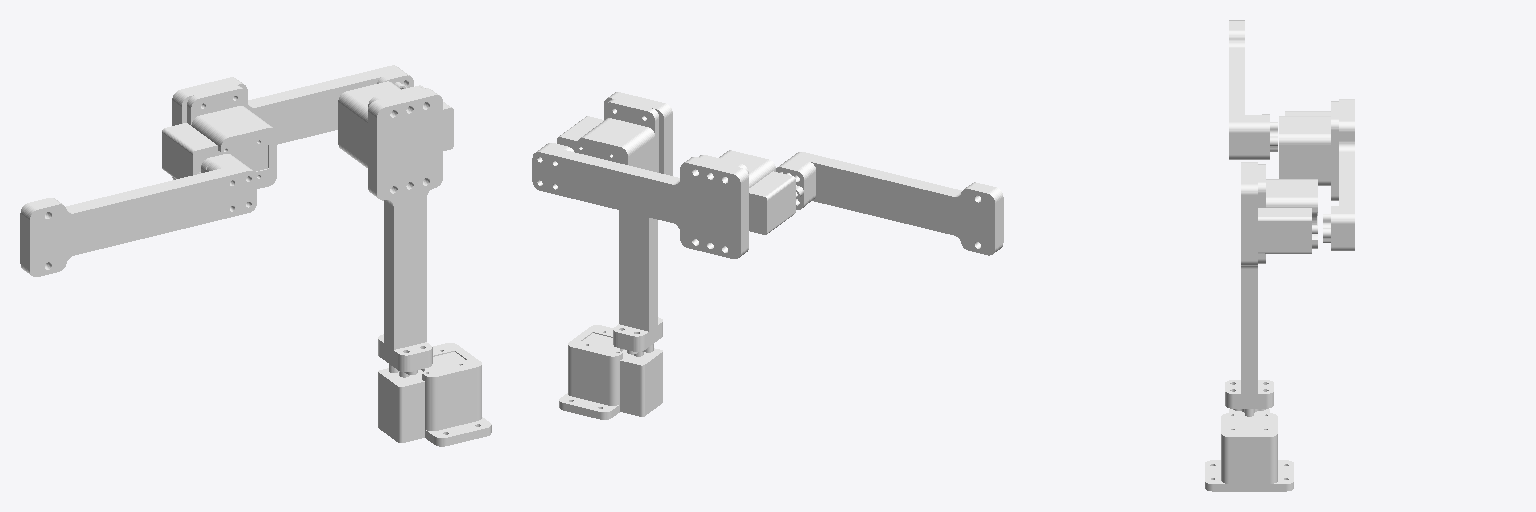
robot.urdf — visual:
<?xml version="1.0"?>
<robot name="visual">

<material name="blue">
    <color rgba="0 0 0.8 1"/>
  </material>
  <material name="black">
    <color rgba="0 0 0 1"/>
  </material>
  <material name="white">
    <color rgba="1 1 1 1"/>
  </material>

  <link name="base_link">
    <visual>
      <origin rpy="1.57075 0 0" xyz="-0.1011 0.1236 0"/>
      <geometry>
        <mesh filename="package://robot_arm/meshes/link0.stl" scale="0.01 0.01 0.01"/>
      </geometry>
      <material name="white"/>
    </visual>
  </link>

  <link name="link1">
    <visual>
      <origin rpy="1.57075 0 0" xyz="-0.2 0.05 0.125"/>
      <geometry>
        <mesh filename="package://robot_arm/meshes/link1.stl" scale="0.01 0.01 0.01"/>
      </geometry>
      <material name="white"/>
    </visual>
  </link>

  <joint name="base_to_link1" type="revolute">
    <parent link="base_link"/>
    <child link="link1"/>    <origin xyz="0 0 0"/>
    <axis xyz="0 0 1"/>
    <limit lower="-1.57" upper="1.57" effort="10" velocity="1"/>
  </joint>

  <link name="link2">
    <visual>
      <origin rpy="1.57075 0 0" xyz="-1.3 0.2 -1.2"/>
      <geometry>
        <mesh filename="package://robot_arm/meshes/link2.stl" scale="0.01 0.01 0.01"/>
      </geometry>
      <material name="white"/>
    </visual>
  </link>

  <joint name="link1_to_link2" type="revolute">
    <parent link="link1"/>
    <child link="link2"/>
    <origin xyz="0.235 0.45 1.35"/>
    <axis xyz="0 -1 0"/>
    <limit lower="-1.57" upper="1.57" effort="10" velocity="1"/>
  </joint>

  <link name="link3">
    <visual>
      <origin rpy="-1.57075 3.14159 0" xyz="0.15 -0.2 -1.2"/>
      <geometry>
        <mesh filename="package://robot_arm/meshes/link3.stl" scale="0.01 0.01 0.01"/>
      </geometry>
      <material name="white"/>
    </visual>
  </link>

  <joint name="link2_to_link3" type="revolute">
    <parent link="link2"/>
    <child link="link3"/>
    <origin xyz="-1.325 -0.3 0"/>
    <axis xyz="0 1 0"/>
    <limit lower="-1.57" upper="1.57" effort="10" velocity="1"/>
  </joint>

</robot>

--- Render facts (derived) ---
3 views of the same robot in one strip: view 1: azimuth 30°, elevation 25°; view 2: azimuth 150°, elevation 25°; view 3: azimuth 270°, elevation 25° (orthographic).
Robot: visual — 4 links, 3 joints (3 revolute); root link base_link; default pose: every joint at zero.
Visible links, largest first — view 1: link1, link3, link2, base_link; view 2: link2, link1, link3, base_link; view 3: link1, link2, base_link, link3.
Link boxes in pixels (x1,y1,x2,y2): link1: (338,81,453,374); link3: (20,154,256,276); link2: (162,65,413,188); base_link: (378,343,491,446); link2: (532,143,795,258); link1: (557,92,672,354); link3: (776,152,1003,255); base_link: (559,325,662,419); link1: (1225,162,1317,415); link2: (1279,99,1354,250); base_link: (1205,409,1293,491); link3: (1229,20,1277,159).
Bounding box of the posed robot: 2.8 × 0.9251 × 2 m (x, y, z).
4 mesh visuals loaded from 4 distinct referenced files (4 binary STL).
